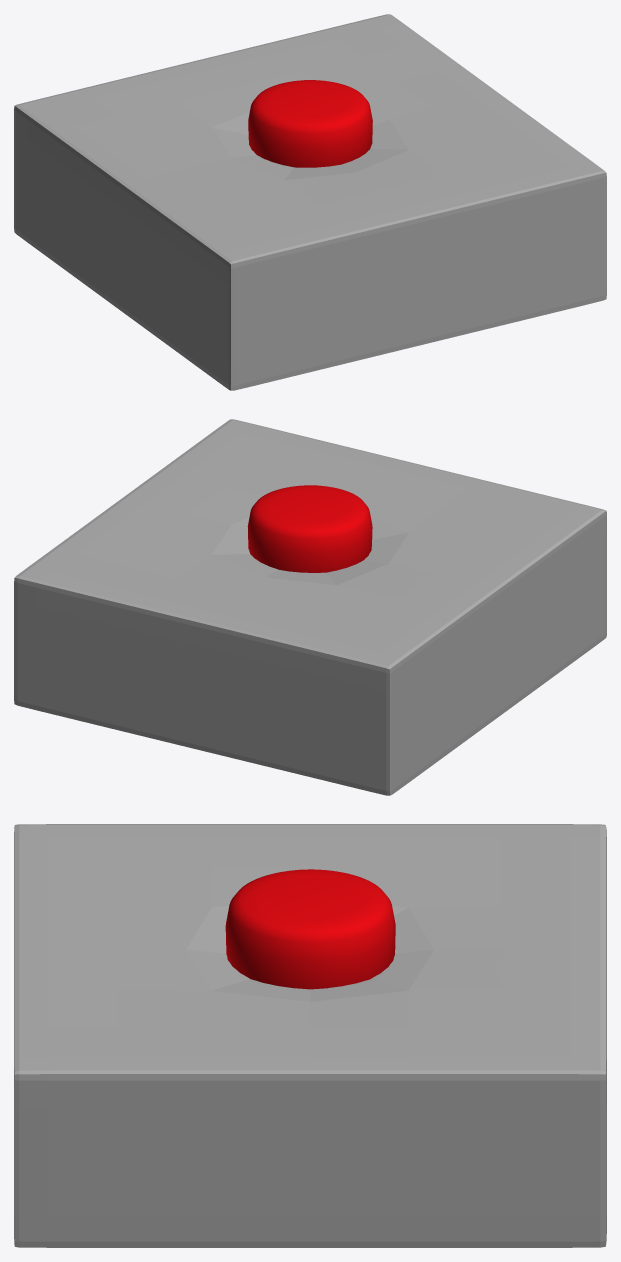
Rendered from Button.fbx.
3 views of the same model, one above another, from view 1: azimuth 30°, elevation 25°; view 2: azimuth 150°, elevation 25°; view 3: azimuth 270°, elevation 25° (orthographic). The views are drawn at different scales.
Parts seen in each view (by area): view 1: Cylinder, Cylinder.001; view 2: Cylinder, Cylinder.001; view 3: Cylinder, Cylinder.001.
Part boxes in pixels (box(x1,y1,x2,y2)): Cylinder: box(14, 14, 606, 390); Cylinder.001: box(248, 80, 372, 167); Cylinder: box(14, 419, 606, 795); Cylinder.001: box(247, 485, 372, 572); Cylinder: box(14, 824, 606, 1247); Cylinder.001: box(225, 869, 395, 989).
Size of the model in its own units: 34.03 by 14.44 by 34.03.
